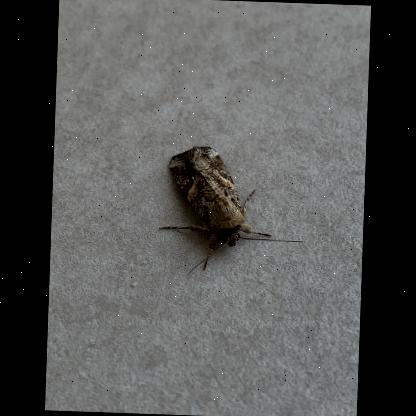Fall Armyworm Moth: (156, 142, 309, 282)
